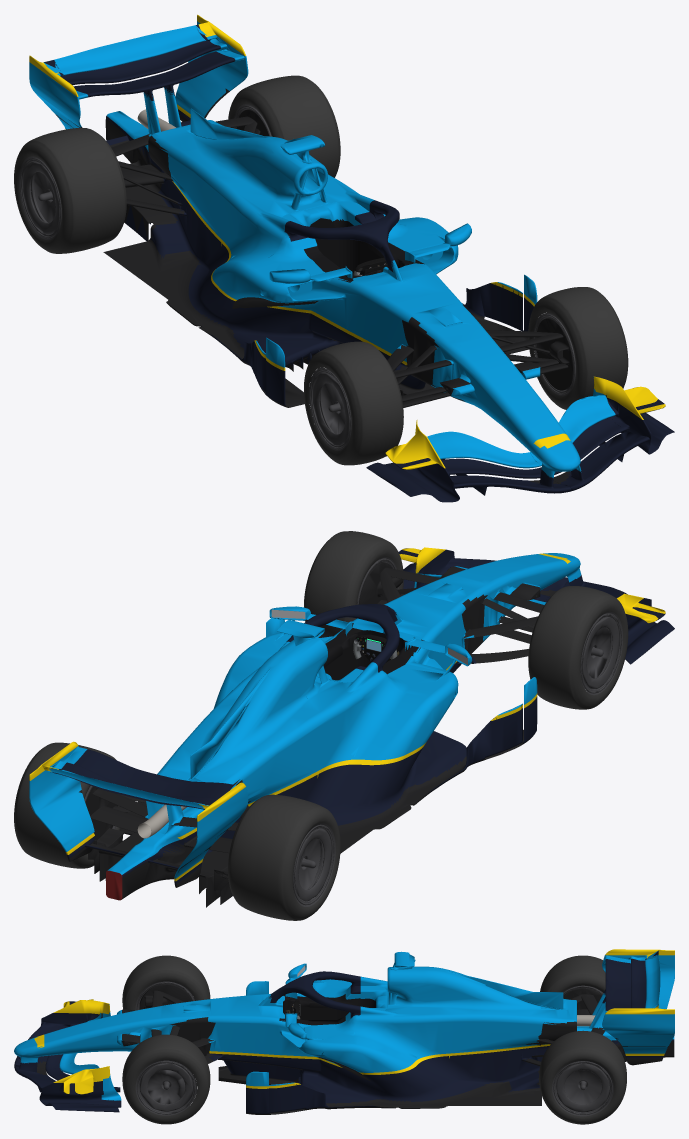
The model's file is mcl-papaya-shell.glb.
The picture shows the model from 3 angles, top to bottom: view 1: azimuth 30°, elevation 25°; view 2: azimuth 150°, elevation 25°; view 3: azimuth 270°, elevation 25°; orthographic projection. The views are drawn at different scales.
Visible parts, largest first — view 1: BODY, WHEEL_RR_TYRE, WHEEL_RF_TYRE, WHEEL_LF_TYRE, WHEEL_LR_TYRE, WING_REAR_2, WHEEL_RR_RIM, WHEEL_RF_RIM, WING_REAR_1, FRONTWINGMOVING_FR_2, FRONTWINGMOVING_FL_2, SUSP_LF (+3 smaller); view 2: BODY, WHEEL_RR_TYRE, WHEEL_RF_TYRE, WHEEL_LF_TYRE, WHEEL_LR_TYRE, WHEEL_RR_RIM, WHEEL_RF_RIM, SUSP_LR, WING_REAR_2, ARM_RF_3, WING_REAR_1, ARM_LF_3 (+3 smaller); view 3: BODY, WHEEL_LR_TYRE, WHEEL_LF_TYRE, WHEEL_LR_RIM, WHEEL_LF_RIM, WHEEL_RF_TYRE, WHEEL_RR_TYRE, WING_REAR_1, WING_REAR_2, FRONTWINGMOVING_FL_2, SUSP_RF, SUSP_RR (+2 smaller).
Boxes of the visible parts, x1=… form: BODY: x1=29, y1=14, x2=674, y2=502; WHEEL_RR_TYRE: x1=14, y1=128, x2=126, y2=253; WHEEL_RF_TYRE: x1=304, y1=341, x2=403, y2=465; WHEEL_LF_TYRE: x1=528, y1=287, x2=628, y2=409; WHEEL_LR_TYRE: x1=228, y1=75, x2=340, y2=177; WING_REAR_2: x1=43, y1=25, x2=210, y2=76; WHEEL_RR_RIM: x1=19, y1=156, x2=61, y2=240; WHEEL_RF_RIM: x1=309, y1=367, x2=351, y2=450; WING_REAR_1: x1=60, y1=39, x2=220, y2=85; FRONTWINGMOVING_FR_2: x1=427, y1=431, x2=539, y2=468; FRONTWINGMOVING_FL_2: x1=530, y1=388, x2=615, y2=466; SUSP_LF: x1=536, y1=317, x2=573, y2=390; BODY: x1=29, y1=547, x2=674, y2=907; WHEEL_RR_TYRE: x1=228, y1=794, x2=340, y2=920; WHEEL_RF_TYRE: x1=528, y1=586, x2=628, y2=709; WHEEL_LF_TYRE: x1=304, y1=531, x2=403, y2=637; WHEEL_LR_TYRE: x1=14, y1=742, x2=120, y2=868; WHEEL_RR_RIM: x1=293, y1=823, x2=335, y2=906; WHEEL_RF_RIM: x1=580, y1=611, x2=622, y2=695; SUSP_LR: x1=85, y1=786, x2=124, y2=873; WING_REAR_2: x1=49, y1=768, x2=208, y2=808; ARM_RF_3: x1=468, y1=592, x2=544, y2=638; WING_REAR_1: x1=50, y1=762, x2=217, y2=809; ARM_LF_3: x1=379, y1=567, x2=441, y2=602; BODY: x1=14, y1=949, x2=674, y2=1114; WHEEL_LR_TYRE: x1=539, y1=1030, x2=626, y2=1124; WHEEL_LF_TYRE: x1=122, y1=1034, x2=210, y2=1124; WHEEL_LR_RIM: x1=552, y1=1060, x2=613, y2=1116; WHEEL_LF_RIM: x1=135, y1=1060, x2=196, y2=1115; WHEEL_RF_TYRE: x1=122, y1=955, x2=210, y2=1010; WHEEL_RR_TYRE: x1=540, y1=955, x2=605, y2=992; WING_REAR_1: x1=631, y1=958, x2=646, y2=1008; WING_REAR_2: x1=645, y1=951, x2=660, y2=1008; FRONTWINGMOVING_FL_2: x1=59, y1=1061, x2=121, y2=1100; SUSP_RF: x1=139, y1=981, x2=192, y2=1009; SUSP_RR: x1=563, y1=988, x2=602, y2=1010.
Bounding box in the file's own units: 1.88 × 1.1 × 5.39.
16 materials, 2 textured.
